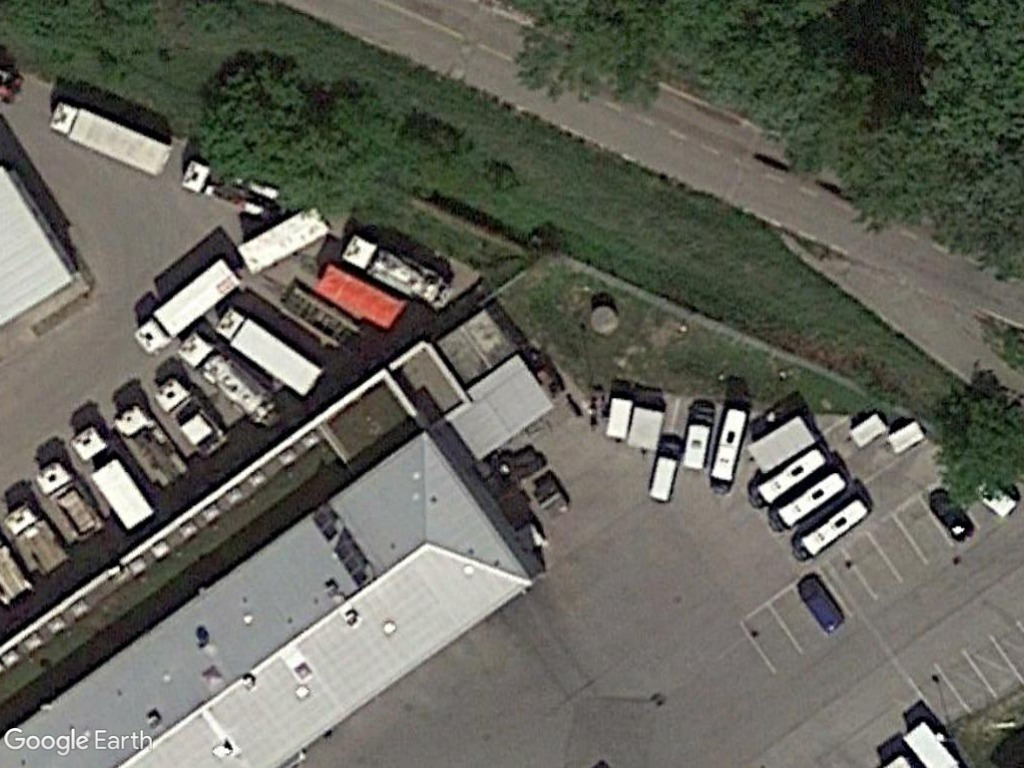truck: (129, 254, 250, 356), (212, 304, 328, 398), (43, 96, 175, 178), (69, 426, 157, 534)
van: (704, 404, 754, 496), (642, 435, 688, 504), (682, 399, 721, 474)
